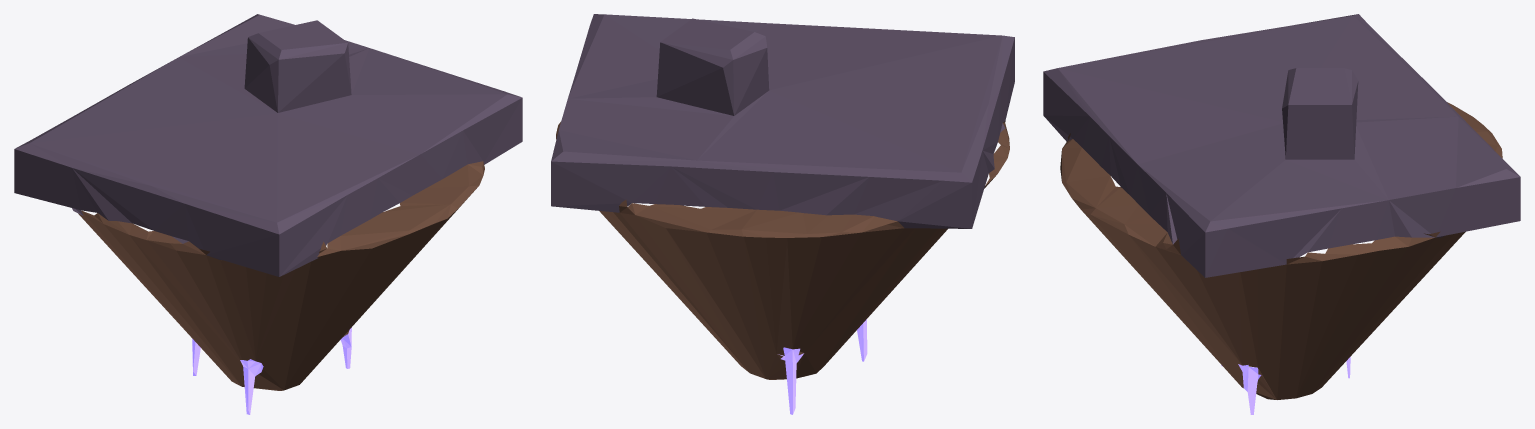
Rendered from floating_rock.glb.
3 views of the same model, side by side, from view 1: azimuth 30°, elevation 25°; view 2: azimuth 150°, elevation 25°; view 3: azimuth 270°, elevation 25° (orthographic). The views are drawn at different scales.
Parts seen in each view (by area): view 1: floating_rock; view 2: floating_rock; view 3: floating_rock.
Part boxes in pixels (bbox=[...]): floating_rock: bbox=[14, 14, 522, 414]; floating_rock: bbox=[551, 14, 1014, 414]; floating_rock: bbox=[1043, 14, 1520, 414].
Size of the model in its own units: 2.71 by 1.97 by 2.5.
